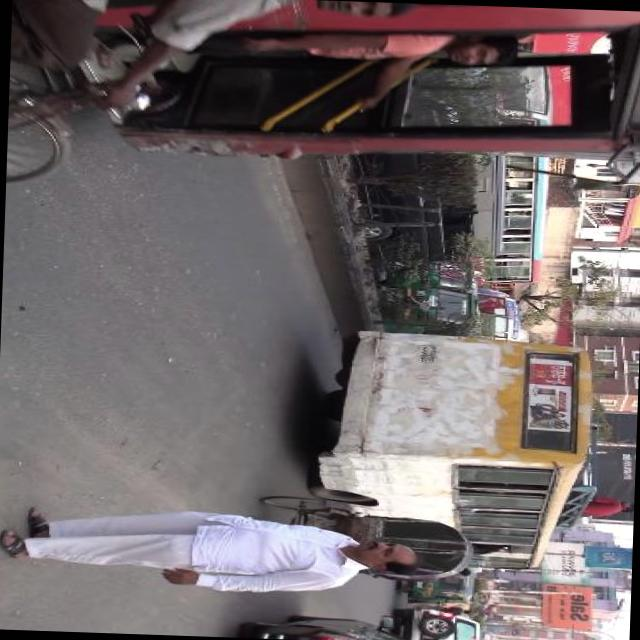bus: (306, 324, 594, 520), (452, 66, 558, 289), (467, 285, 526, 343)
car: (234, 603, 417, 640), (391, 607, 484, 640)
motorcycle: (245, 492, 481, 586), (360, 286, 480, 336), (374, 256, 484, 300), (390, 568, 477, 606)
truck: (343, 150, 513, 266)
